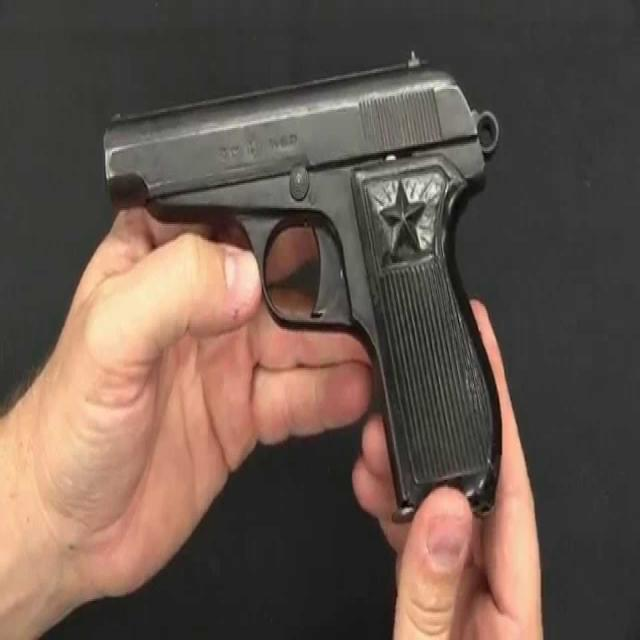HandGun: (102, 65, 503, 524)
